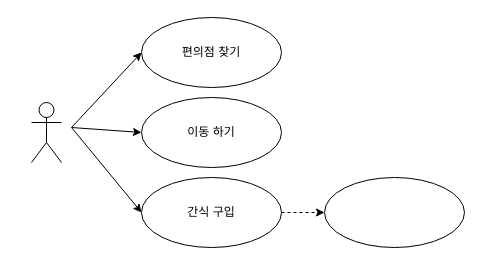
This 482x265 diagram has some shape labels left out. Here are the shapes that lost their labels. From the top down, the centre of each, then its label:
At pixel 46 132: "편의점 고객".
At pixel 394 212: "계산 하기".
